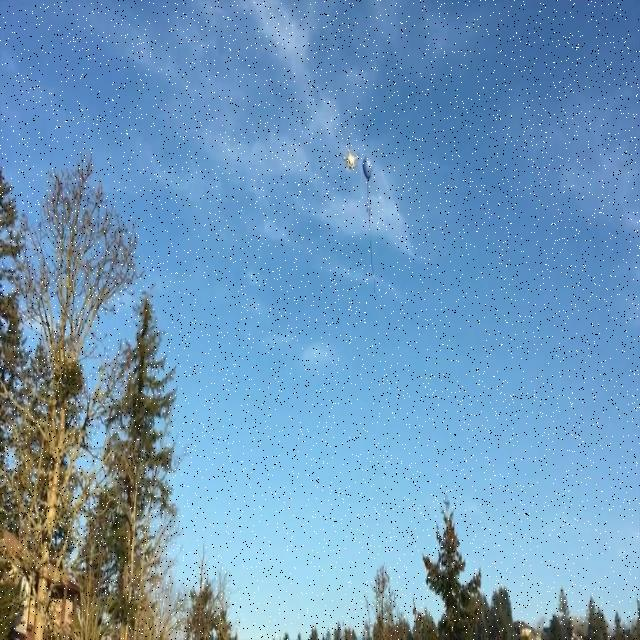UAV: (340, 146, 360, 172)
